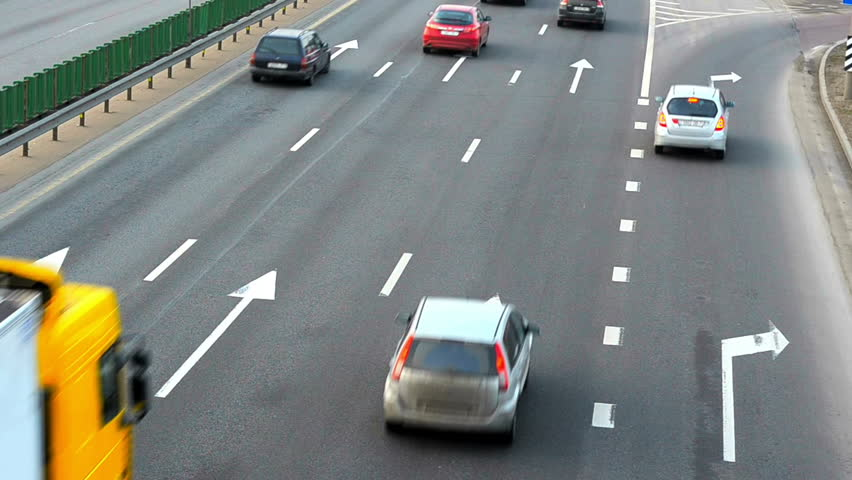car: (389, 290, 534, 440), (656, 80, 729, 161), (251, 25, 330, 82), (419, 4, 493, 63), (554, 1, 615, 33)
